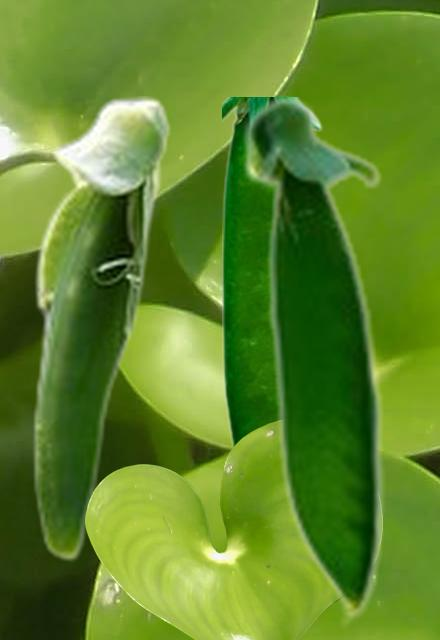pea: (240, 93, 384, 628), (31, 96, 171, 561), (222, 97, 325, 449)
